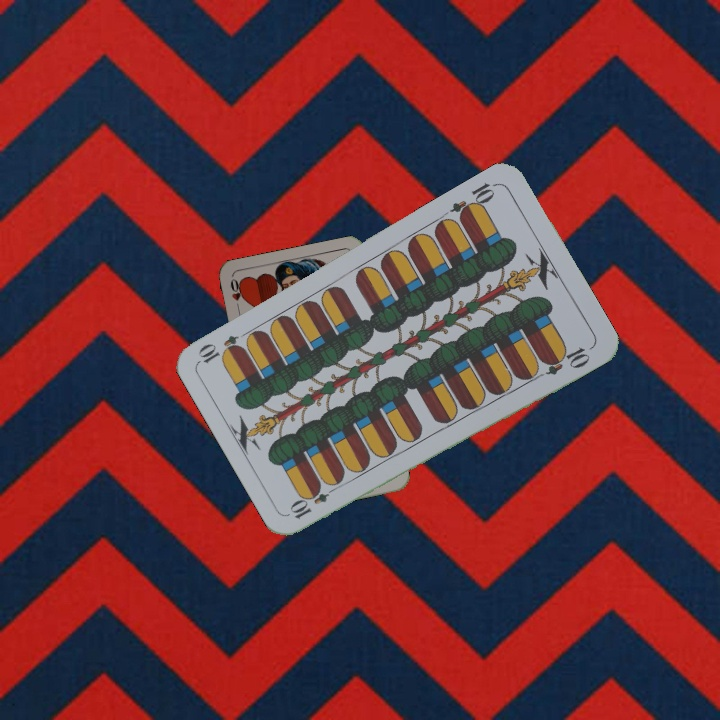E10: (446, 178, 500, 223), (286, 480, 341, 522)
HO: (226, 274, 246, 315)
